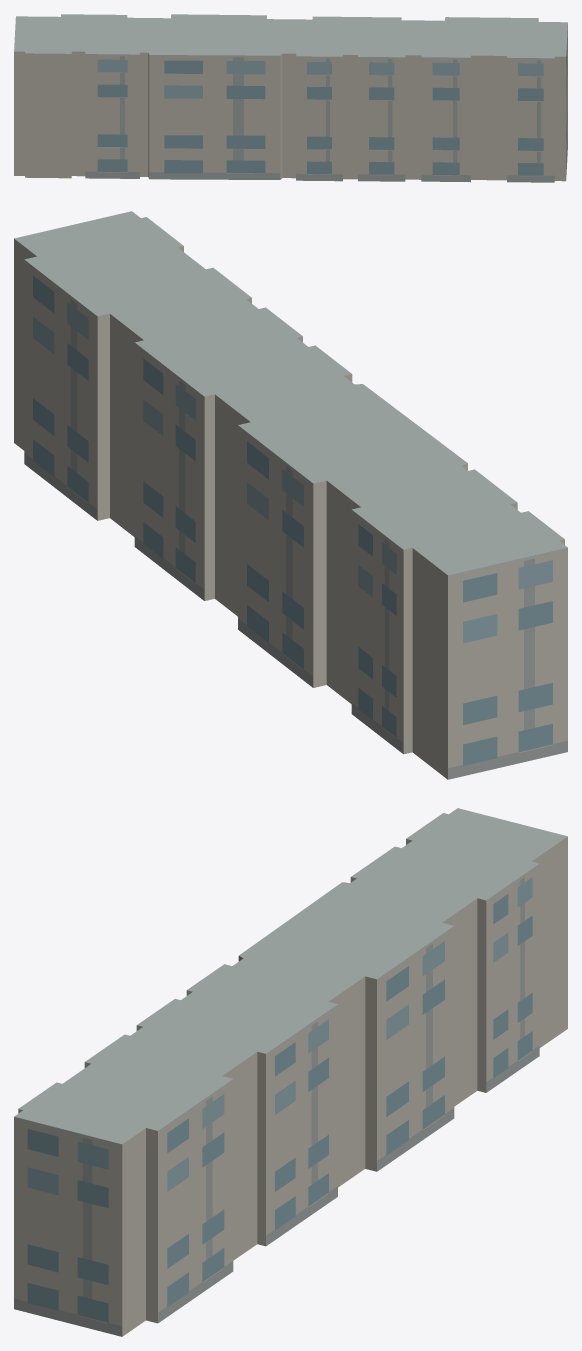
The model's file is survey-upis-32772185.glb.
3 renders of one model, top to bottom at view 1: azimuth 30°, elevation 25°; view 2: azimuth 150°, elevation 25°; view 3: azimuth 270°, elevation 25°, orthographic. The views are drawn at different scales.
Parts seen in each view (by area): view 1: survey-upis-32772185.tmp; view 2: survey-upis-32772185.tmp; view 3: survey-upis-32772185.tmp.
Boxes of the visible parts, left/top/right/bottom form: survey-upis-32772185.tmp: left=14, top=14, right=567, bottom=182; survey-upis-32772185.tmp: left=14, top=211, right=567, bottom=779; survey-upis-32772185.tmp: left=14, top=808, right=567, bottom=1336.
Size of the model in its own units: 57.15 by 15.25 by 39.78.
